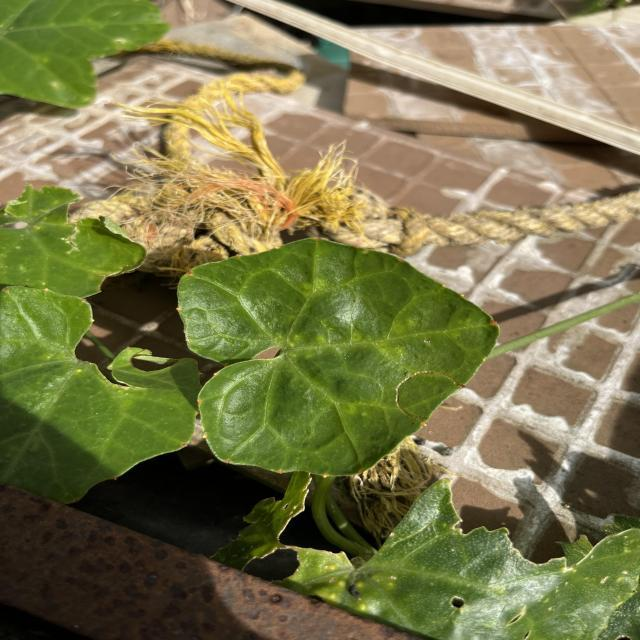Coccinia grandis: (176, 234, 504, 480)
